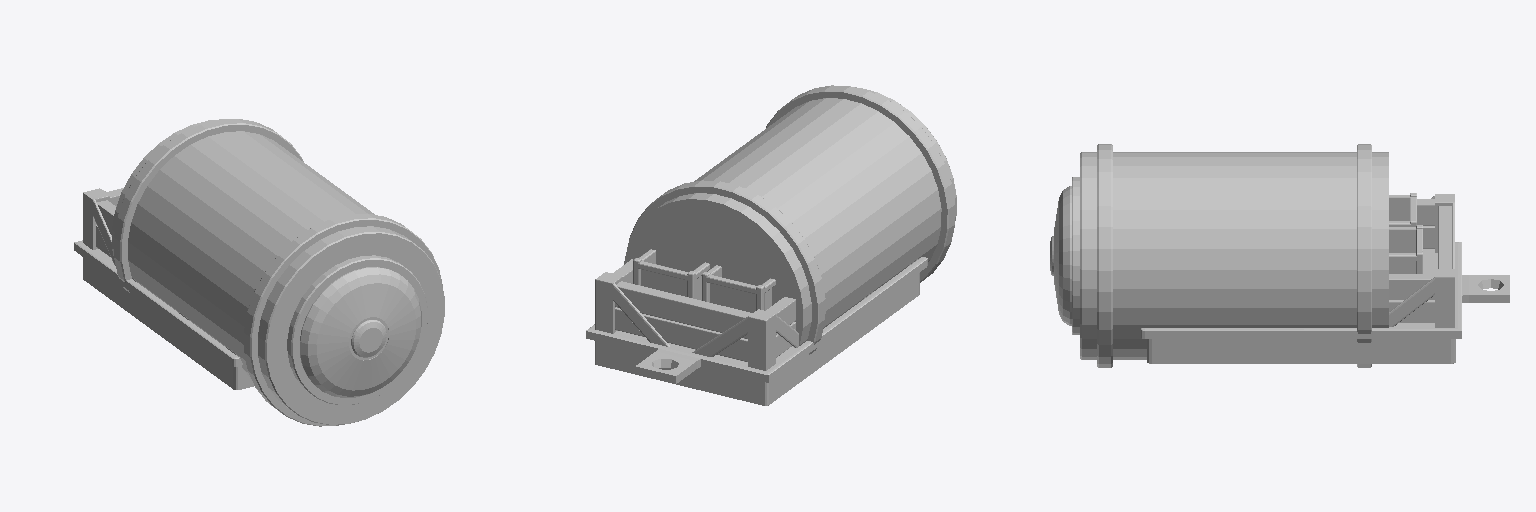
The model's file is SM_wagon_resource.obj.
The picture shows the model from 3 angles: view 1: azimuth 30°, elevation 25°; view 2: azimuth 150°, elevation 25°; view 3: azimuth 270°, elevation 25°; orthographic projection.
Visible parts, largest first — view 1: nez, wagon.001, Cube.003; view 2: nez, wagon.001, Cube.003, cagette.005, cagette.004, Cube.006, Cube.001; view 3: nez, wagon.001, Cube.003, cagette.004, cagette.005, Cube.002.
Part boxes in pixels (bbox=[...]): nez: bbox=[112, 119, 444, 426]; wagon.001: bbox=[74, 240, 253, 389]; Cube.003: bbox=[83, 188, 235, 354]; nez: bbox=[624, 85, 956, 354]; wagon.001: bbox=[586, 257, 927, 405]; Cube.003: bbox=[595, 258, 919, 370]; cagette.005: bbox=[702, 265, 775, 312]; cagette.004: bbox=[633, 249, 709, 300]; Cube.006: bbox=[613, 283, 669, 346]; Cube.001: bbox=[692, 316, 748, 356]; nez: bbox=[1050, 144, 1388, 367]; wagon.001: bbox=[1141, 242, 1509, 363]; Cube.003: bbox=[1389, 194, 1454, 327]; cagette.004: bbox=[1389, 225, 1422, 273]; cagette.005: bbox=[1389, 193, 1416, 226]; Cube.002: bbox=[1389, 277, 1434, 326].
Size of the model in its own units: 3.22 by 3.22 by 6.63.